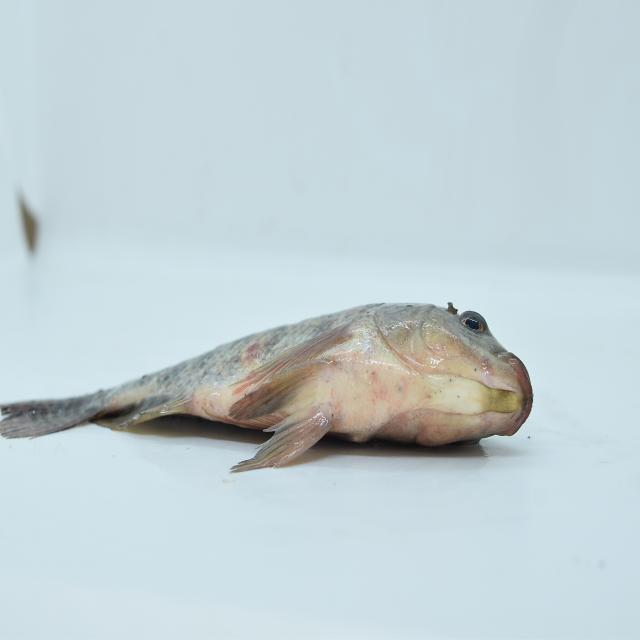Columnaris Disease: (0, 266, 537, 494)
